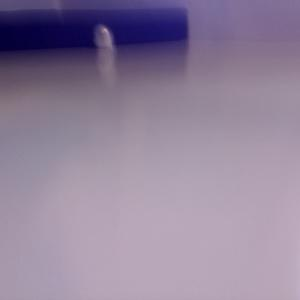zone: (1, 9, 187, 54)
